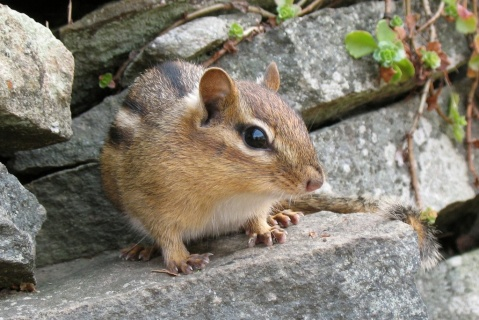Squirrel: (98, 54, 442, 270)
